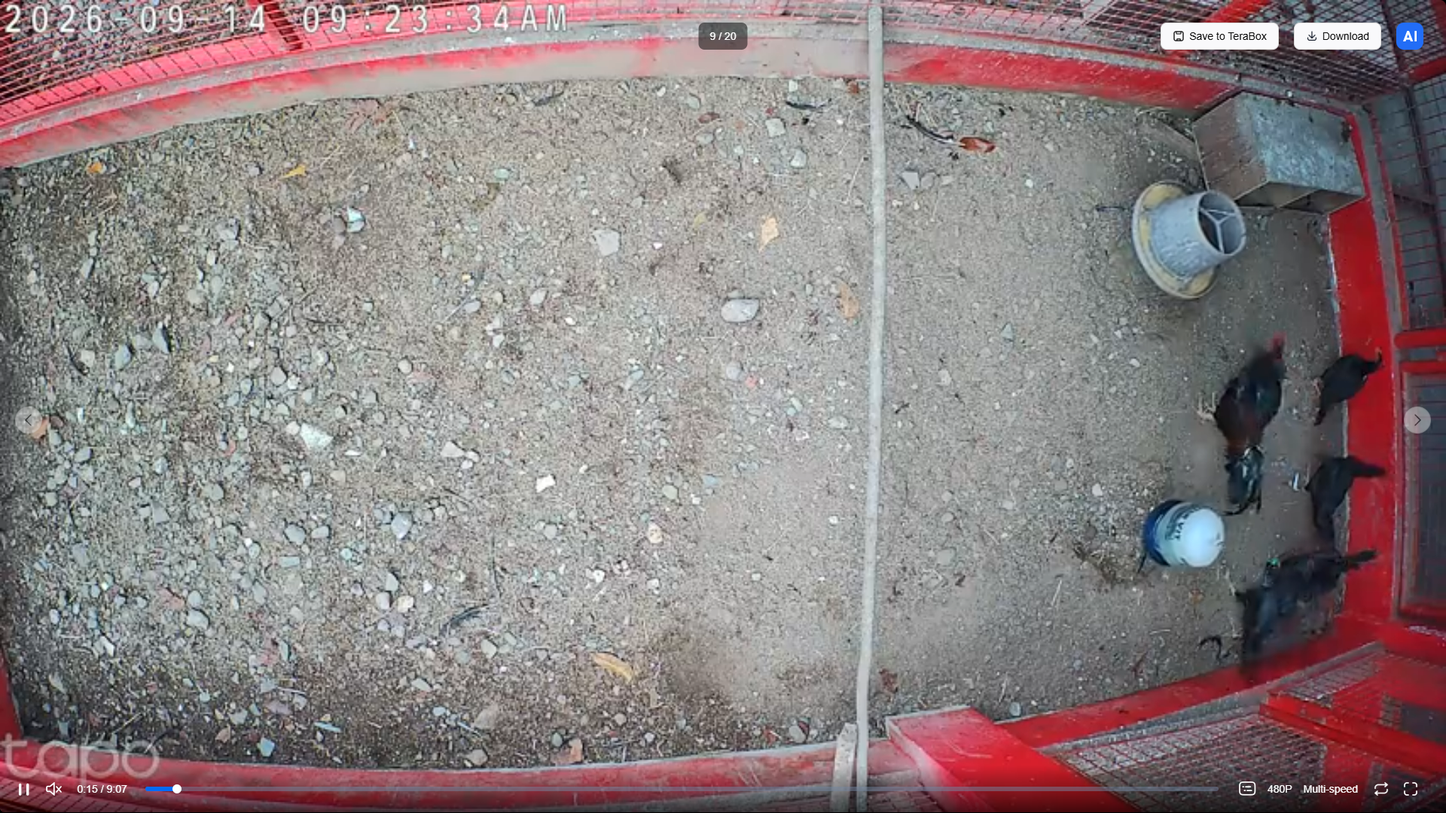Chicken: (1288, 450, 1391, 551), (1231, 566, 1312, 673), (1312, 337, 1384, 431), (1264, 543, 1379, 600)
Drinker: (1142, 498, 1227, 577)
Feeder: (1127, 173, 1249, 298)
Rooster: (1197, 329, 1295, 517)
